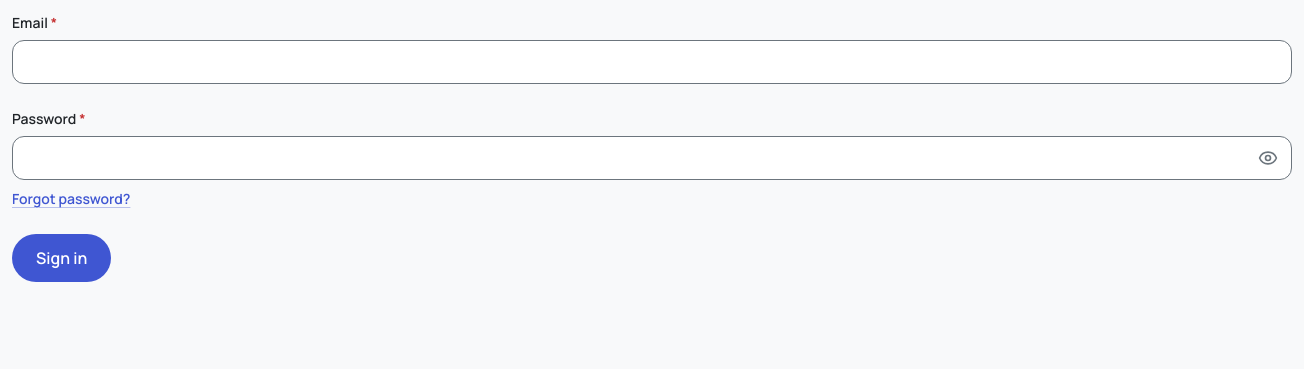
SigninForm › says the credentials don’t match without blaming either field
The width and height of the screenshot is (1304, 369).
Type "riley@example.test" into the field labelled "Email *" at (652, 62), box [12,40,1292,84]
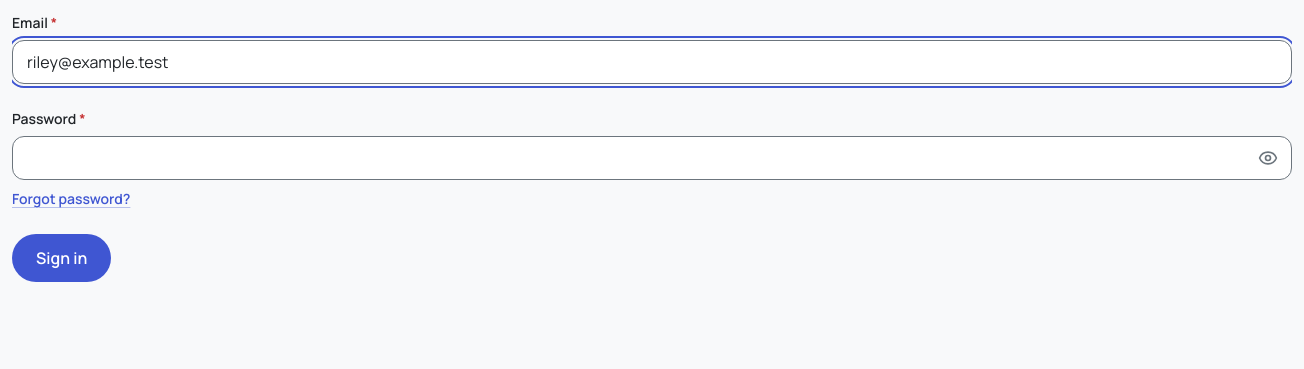
Type "correct horse battery" into the password field labelled "Password *" at (652, 158), box [12,136,1292,180]
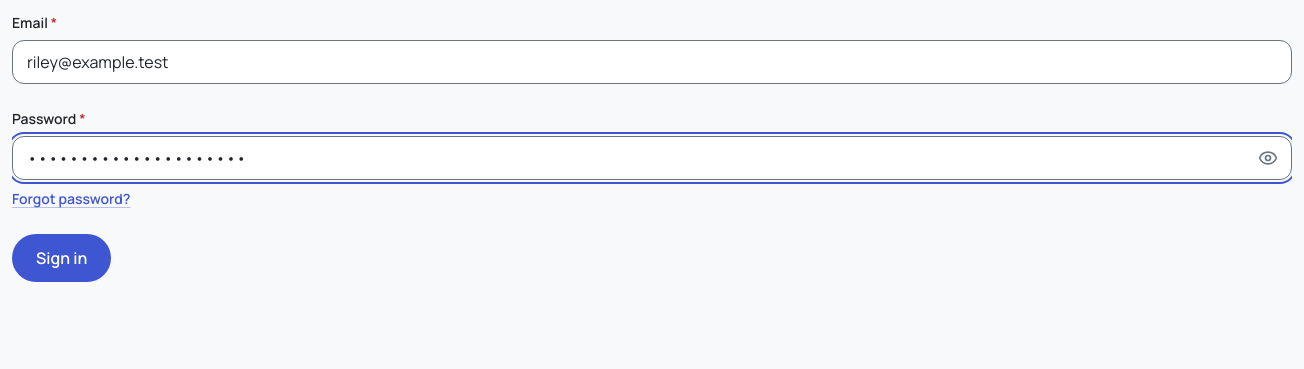
Click the button "Sign in" at (62, 258), box [12,234,111,282]
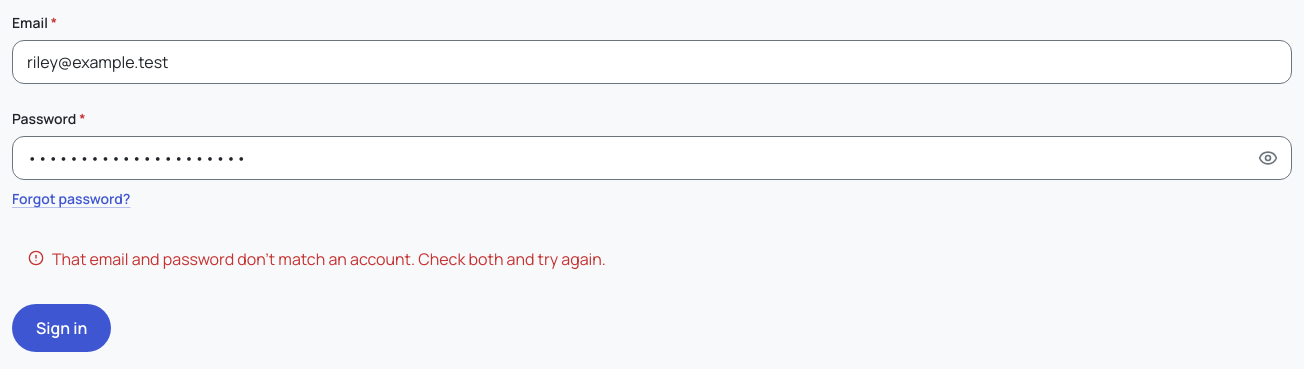
Expected: the message shows "That email and password don’t match an account.", [52,248,606,270]
